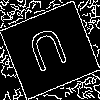U: (25, 25, 74, 82)
